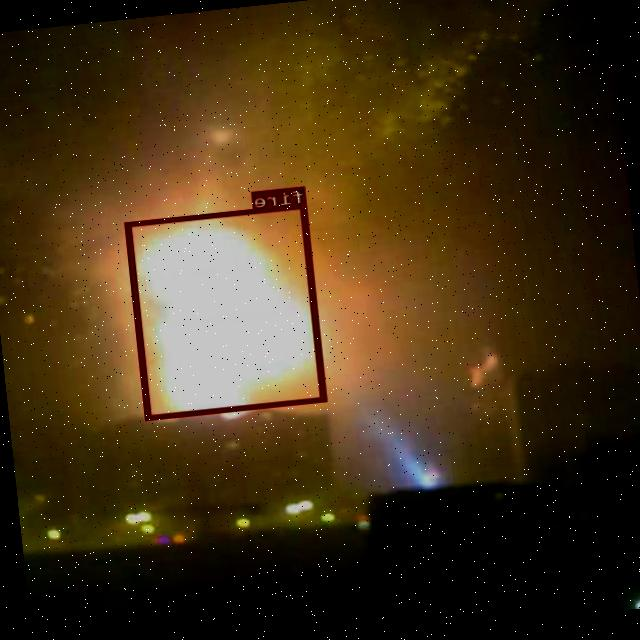fire: (125, 202, 328, 418)
